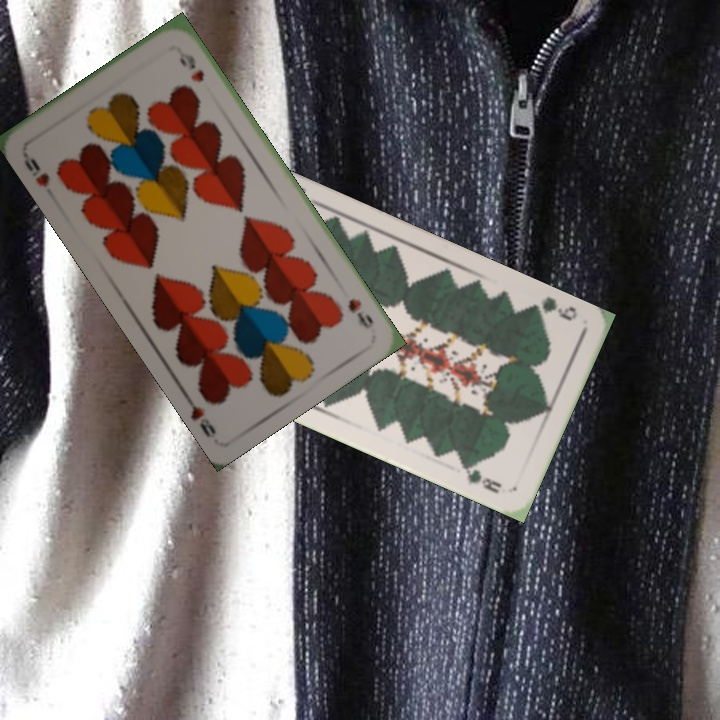G9: (525, 292, 580, 323)
H9: (18, 148, 52, 190), (344, 294, 376, 332)
